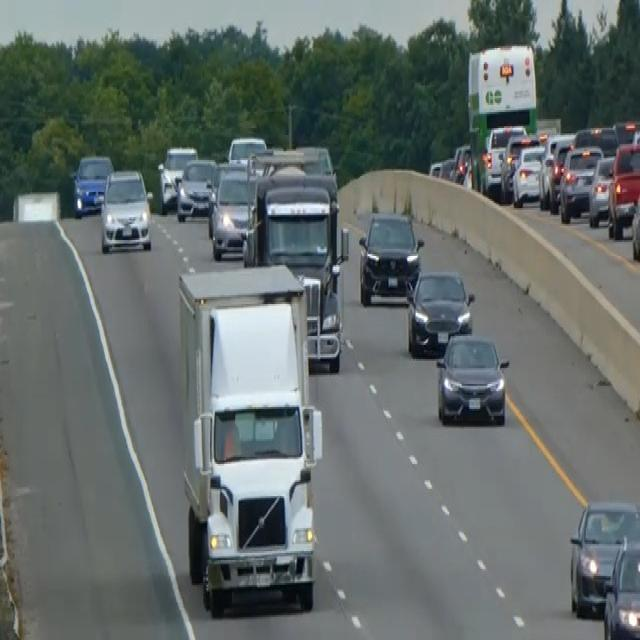car: (242, 169, 348, 371), (568, 496, 639, 617), (435, 329, 509, 427), (357, 208, 423, 306), (404, 266, 474, 356), (207, 160, 259, 260), (99, 165, 153, 252), (602, 539, 639, 638), (558, 142, 603, 222), (606, 139, 639, 238), (481, 122, 525, 194), (156, 144, 197, 212), (72, 151, 114, 217), (175, 154, 216, 220), (511, 140, 547, 208), (587, 153, 615, 226), (499, 133, 529, 201), (547, 138, 574, 212), (572, 123, 619, 158), (295, 142, 336, 180), (226, 133, 267, 162), (451, 142, 471, 183), (630, 178, 639, 263)
lorry: (175, 261, 323, 615)
